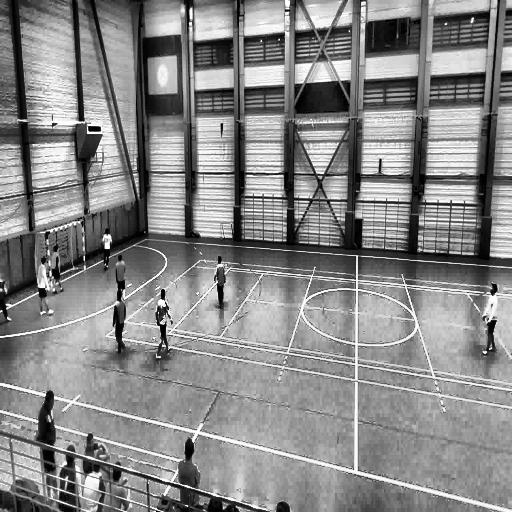player: (34, 392, 58, 500), (177, 436, 201, 512), (103, 459, 133, 512), (59, 444, 83, 510), (480, 281, 498, 355), (110, 288, 129, 358), (82, 459, 107, 512), (83, 432, 113, 473), (156, 288, 173, 358), (37, 256, 53, 316), (52, 243, 66, 297), (214, 256, 227, 309), (115, 253, 126, 306), (102, 228, 113, 271), (0, 276, 9, 321)
